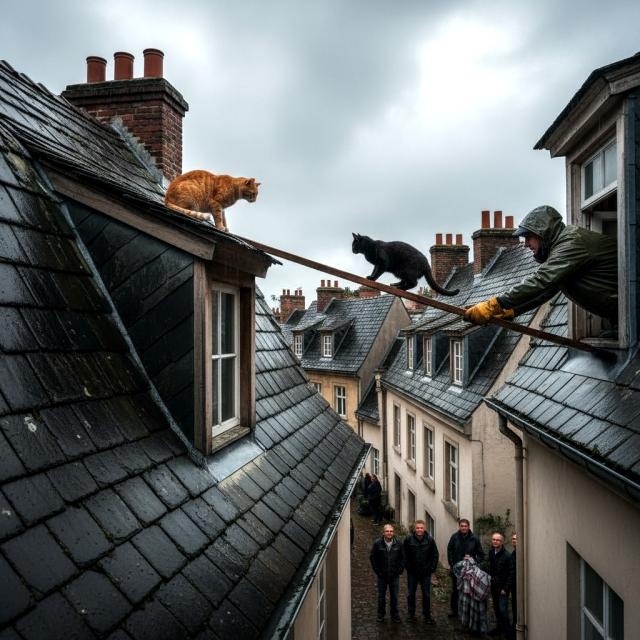cat: (338, 222, 464, 307), (164, 160, 264, 233)
civilian: (465, 201, 626, 350), (401, 514, 445, 628), (367, 518, 410, 622), (446, 517, 486, 622), (480, 526, 512, 629), (502, 524, 520, 580), (365, 472, 384, 522)
